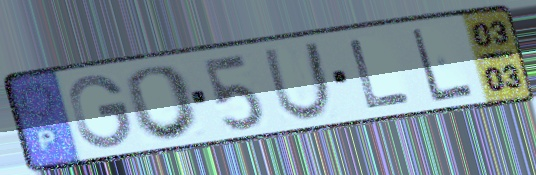5: (198, 50, 270, 133)
G: (65, 72, 135, 152)
L: (408, 24, 477, 105), (345, 36, 416, 112)
O: (123, 62, 205, 143)
U: (260, 39, 336, 124)
